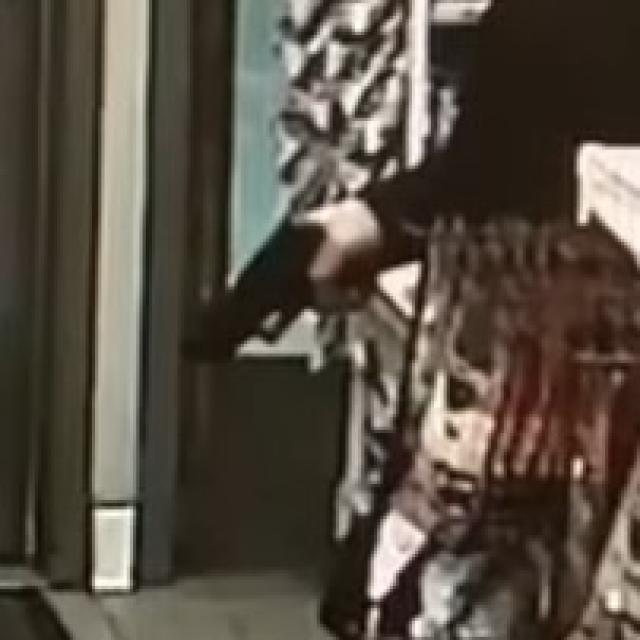gun: (189, 212, 371, 376)
